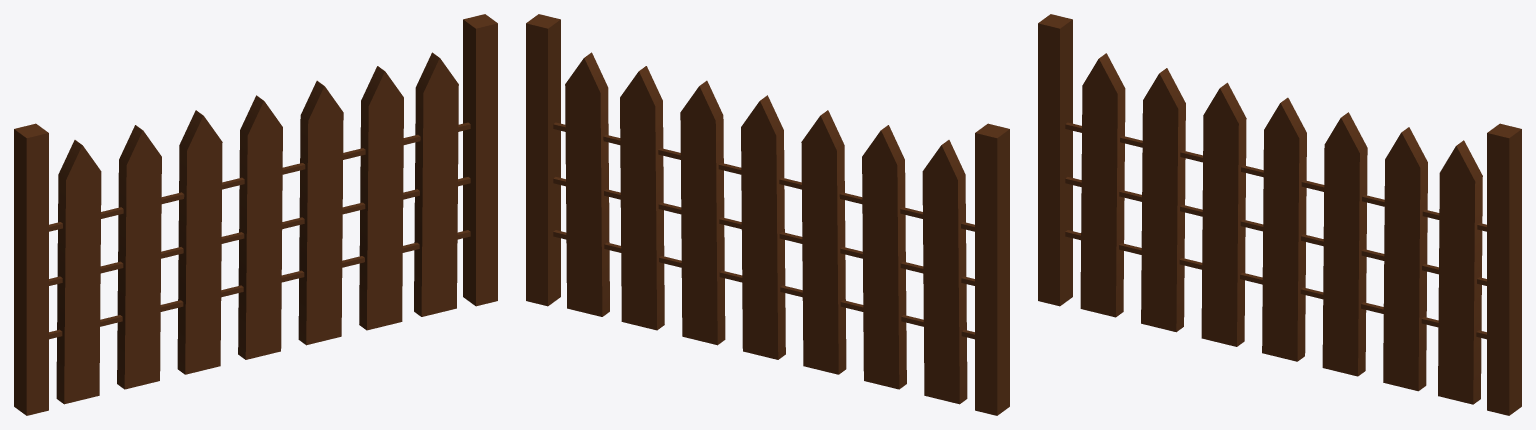
File: Fence 001.FBX
3 renders of one model, left to right at view 1: azimuth 30°, elevation 25°; view 2: azimuth 150°, elevation 25°; view 3: azimuth 330°, elevation 25°, orthographic.
Visible parts, largest first — view 1: Fence Pointed Post003, Fence Pointed Post001, Fence Pointed Post006, Fence Pointed Post, Fence Pointed Post005, Fence Pointed Post002, Fence Pointed Post004, Fence Start Post, Fence End Post, Horizontal Fence Support02, Horizontal Fence Support03, Horizontal Fence Support01; view 2: Fence Pointed Post003, Fence Pointed Post006, Fence Pointed Post001, Fence Pointed Post, Fence Pointed Post002, Fence Pointed Post005, Fence Pointed Post004, Fence Start Post, Fence End Post, Horizontal Fence Support02, Horizontal Fence Support03, Horizontal Fence Support01; view 3: Fence Pointed Post003, Fence Pointed Post001, Fence Pointed Post006, Fence Pointed Post005, Fence Pointed Post, Fence Pointed Post002, Fence Pointed Post004, Fence End Post, Fence Start Post, Horizontal Fence Support02, Horizontal Fence Support03, Horizontal Fence Support01.
Boxes of the visible parts, bbox=[...] form: Fence Pointed Post003: bbox=[238, 95, 282, 359]; Fence Pointed Post001: bbox=[117, 125, 161, 389]; Fence Pointed Post006: bbox=[414, 52, 458, 316]; Fence Pointed Post: bbox=[56, 140, 101, 404]; Fence Pointed Post005: bbox=[359, 66, 403, 330]; Fence Pointed Post002: bbox=[177, 110, 222, 374]; Fence Pointed Post004: bbox=[298, 80, 343, 345]; Fence Start Post: bbox=[14, 123, 48, 415]; Fence End Post: bbox=[463, 14, 497, 306]; Horizontal Fence Support02: bbox=[49, 230, 470, 339]; Horizontal Fence Support03: bbox=[49, 177, 470, 285]; Horizontal Fence Support01: bbox=[49, 122, 470, 231]; Fence Pointed Post003: bbox=[741, 95, 785, 359]; Fence Pointed Post006: bbox=[565, 52, 609, 316]; Fence Pointed Post001: bbox=[862, 125, 906, 389]; Fence Pointed Post: bbox=[922, 140, 967, 404]; Fence Pointed Post002: bbox=[801, 110, 846, 374]; Fence Pointed Post005: bbox=[620, 66, 664, 330]; Fence Pointed Post004: bbox=[680, 80, 725, 345]; Fence Start Post: bbox=[975, 123, 1009, 415]; Fence End Post: bbox=[526, 14, 560, 306]; Horizontal Fence Support02: bbox=[553, 230, 974, 339]; Horizontal Fence Support03: bbox=[553, 177, 974, 285]; Horizontal Fence Support01: bbox=[553, 122, 974, 231]; Fence Pointed Post003: bbox=[1262, 97, 1306, 361]; Fence Pointed Post001: bbox=[1141, 68, 1185, 332]; Fence Pointed Post006: bbox=[1438, 140, 1482, 404]; Fence Pointed Post005: bbox=[1383, 127, 1427, 391]; Fence Pointed Post: bbox=[1080, 53, 1125, 317]; Fence Pointed Post002: bbox=[1201, 82, 1246, 346]; Fence Pointed Post004: bbox=[1322, 112, 1367, 376]; Fence End Post: bbox=[1487, 123, 1521, 415]; Fence Start Post: bbox=[1038, 14, 1072, 306]; Horizontal Fence Support02: bbox=[1065, 230, 1486, 339]; Horizontal Fence Support03: bbox=[1065, 177, 1486, 285]; Horizontal Fence Support01: bbox=[1065, 122, 1486, 231].
Bounding box in the file's own units: 1.07 × 0.6 × 0.05.
